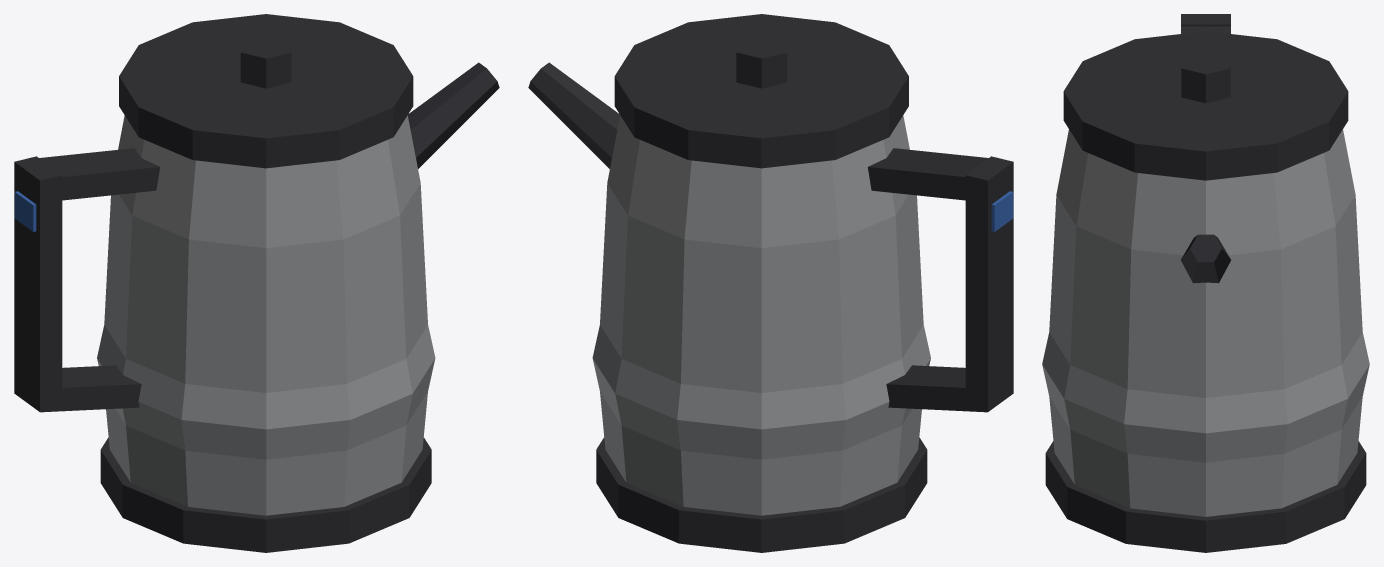
Rendered from FN_Kettle.glb.
3 views of the same model, side by side, from view 1: azimuth 30°, elevation 25°; view 2: azimuth 150°, elevation 25°; view 3: azimuth 270°, elevation 25° (orthographic). The views are drawn at different scales.
Parts seen in each view (by area): view 1: FN_Kettle; view 2: FN_Kettle; view 3: FN_Kettle.
Boxes of the visible parts, left/top/right/bottom form: FN_Kettle: left=14, top=14, right=499, bottom=552; FN_Kettle: left=528, top=14, right=1013, bottom=552; FN_Kettle: left=1042, top=14, right=1369, bottom=552.
Size of the model in its own units: 0.2959 by 0.262 by 0.184.
Materials: 1 (1 with a texture image).
